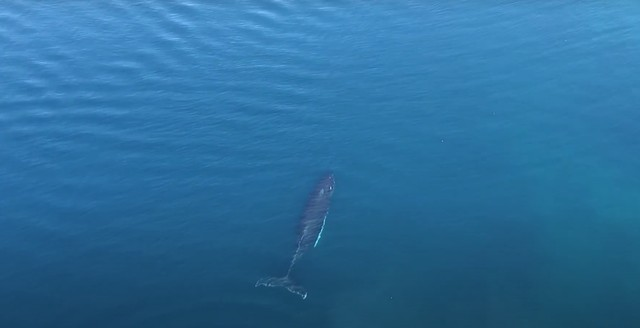whale: (252, 166, 347, 306)
